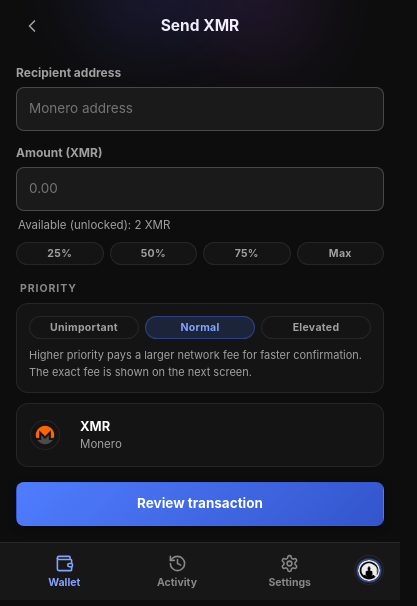
Test: LiveSendMonero › Max sets sweep, builds a never-relayed sweep to this wallet and shows its amount in the field
Step 1. Click the button with test id "live-xmr-send-sweep" → (340, 253), box [296, 242, 384, 265]
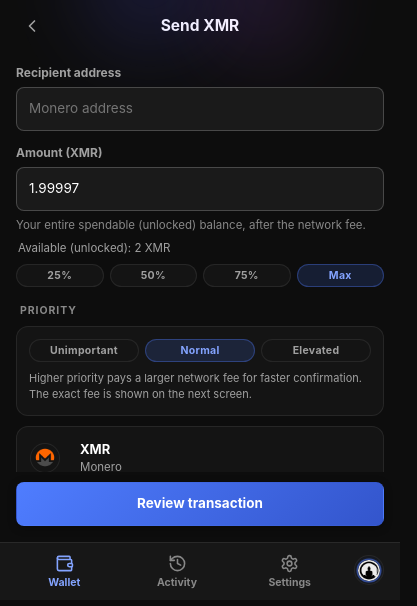
Expected: the field with test id "live-xmr-send-amount" is disabled, [29, 168, 371, 210]
Expected: the field with test id "live-xmr-send-amount" holds "1.99997", [29, 168, 371, 210]
